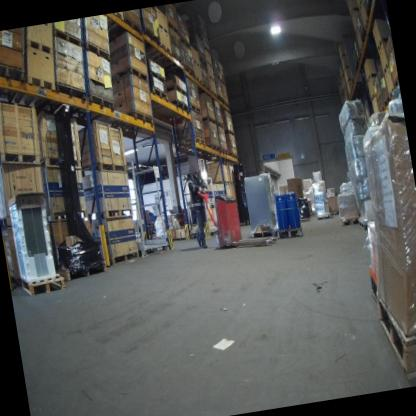pallet: (374, 288, 416, 383), (57, 256, 108, 282), (0, 144, 42, 173), (21, 271, 66, 296), (80, 156, 128, 179), (110, 63, 149, 88), (38, 152, 82, 174), (86, 87, 116, 116), (52, 23, 83, 51), (56, 77, 87, 104), (82, 37, 111, 65), (86, 205, 133, 222), (0, 56, 26, 85), (24, 34, 54, 59), (26, 70, 56, 94), (46, 207, 87, 224), (124, 109, 154, 129), (166, 93, 190, 117), (108, 250, 141, 266), (174, 134, 206, 150), (274, 225, 304, 241), (122, 14, 142, 37), (141, 25, 160, 47), (338, 210, 361, 227), (251, 227, 277, 242), (373, 32, 392, 52), (148, 83, 168, 102), (149, 65, 167, 86), (167, 81, 187, 97), (157, 38, 172, 57), (167, 18, 180, 37), (157, 21, 169, 38), (179, 33, 190, 51), (171, 49, 183, 65), (363, 14, 373, 33), (349, 5, 360, 22), (189, 101, 202, 115), (202, 116, 217, 128), (183, 64, 195, 78), (357, 218, 368, 232), (391, 73, 400, 90), (381, 94, 391, 109), (353, 21, 362, 37), (0, 216, 12, 228), (224, 128, 236, 140), (111, 11, 124, 22), (381, 61, 390, 76), (366, 72, 378, 83), (207, 145, 220, 155), (229, 152, 240, 163), (357, 0, 365, 15), (194, 73, 203, 85), (202, 80, 211, 92), (359, 40, 366, 55), (298, 215, 311, 223), (220, 146, 230, 156), (316, 213, 330, 220), (205, 57, 213, 69), (388, 86, 395, 99), (217, 120, 226, 130), (212, 69, 220, 80), (192, 58, 200, 68), (378, 103, 385, 114), (328, 210, 340, 216), (342, 64, 350, 73), (217, 93, 224, 103), (219, 76, 226, 86), (208, 73, 215, 82), (370, 92, 376, 102), (223, 100, 229, 108), (211, 90, 217, 98), (339, 54, 347, 60), (345, 0, 356, 4), (345, 77, 351, 84)
pallet_truck: (196, 176, 279, 255)
